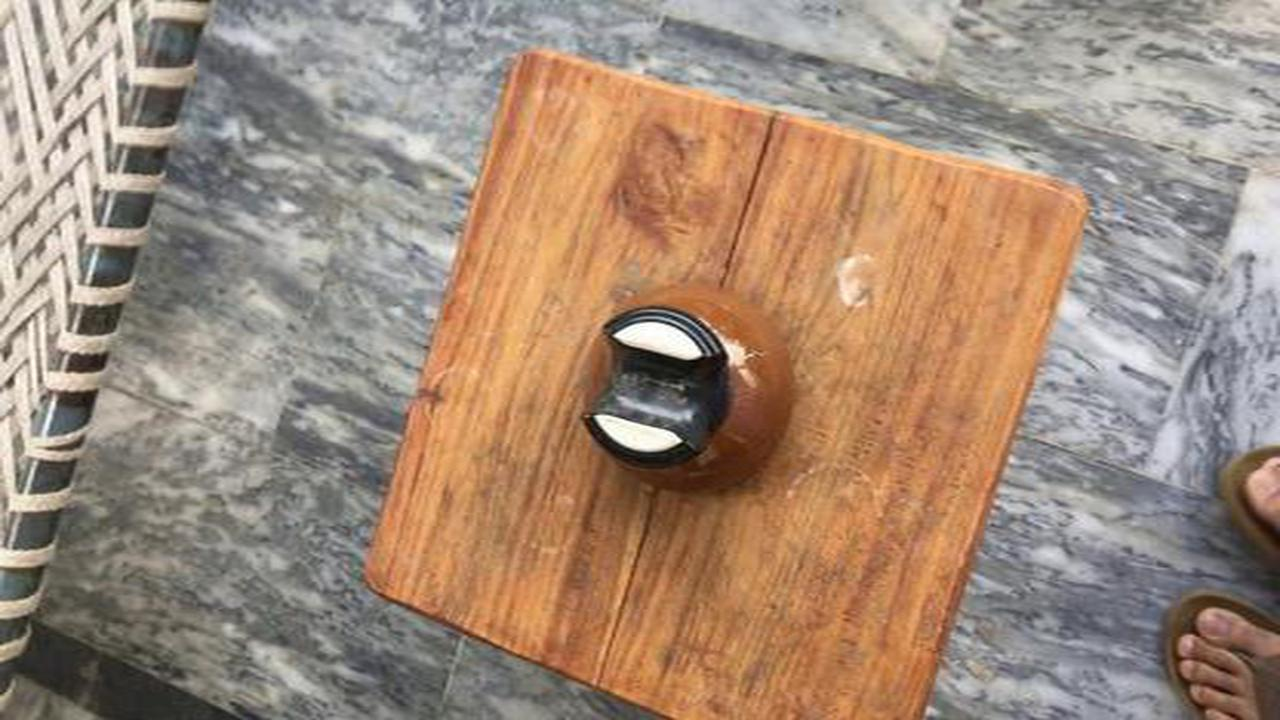insulator_pin: (561, 272, 828, 508)
